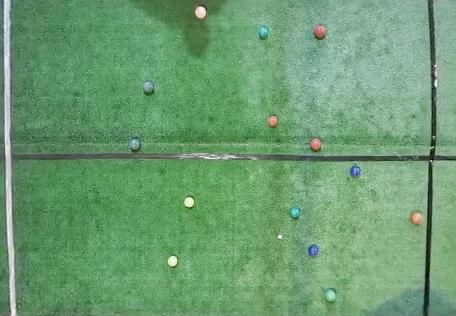blue: (350, 165, 361, 177), (308, 245, 318, 256)
green: (129, 138, 141, 150), (324, 289, 336, 301), (289, 206, 300, 218), (142, 81, 153, 93), (258, 26, 268, 38)
red: (195, 6, 207, 19), (309, 138, 322, 150), (410, 212, 423, 224), (315, 25, 326, 37), (267, 116, 278, 127)
vline: (422, 1, 456, 315), (0, 1, 21, 315)
white: (278, 235, 282, 239)
yellow: (184, 196, 195, 208), (167, 255, 178, 267)
